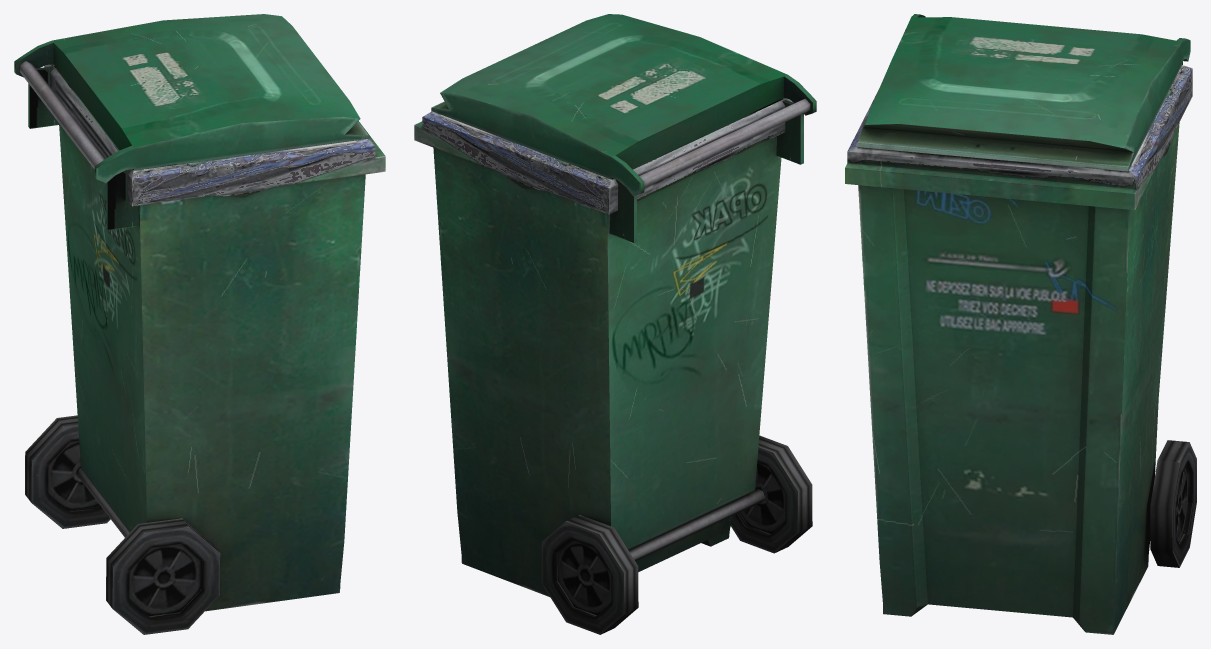
File: poubelle_6.glb
The picture shows the model from 3 angles, left to right: view 1: azimuth 30°, elevation 25°; view 2: azimuth 150°, elevation 25°; view 3: azimuth 270°, elevation 25°; orthographic projection. The views are drawn at different scales.
Visible parts, largest first — view 1: SM_TrashBin_Material #2_0; view 2: SM_TrashBin_Material #2_0; view 3: SM_TrashBin_Material #2_0.
Part boxes in pixels (x1,y1,x2,y2): SM_TrashBin_Material #2_0: (14,14,385,634); SM_TrashBin_Material #2_0: (414,14,816,634); SM_TrashBin_Material #2_0: (845,14,1196,634).
Bounding box in the file's own units: 0.7162 × 1.11 × 0.6904.
1 material, 1 textured.
